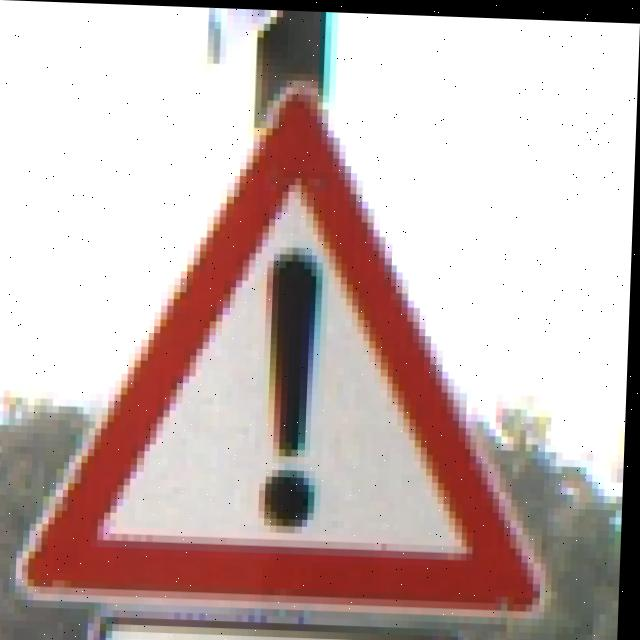warning: (28, 112, 579, 628)
